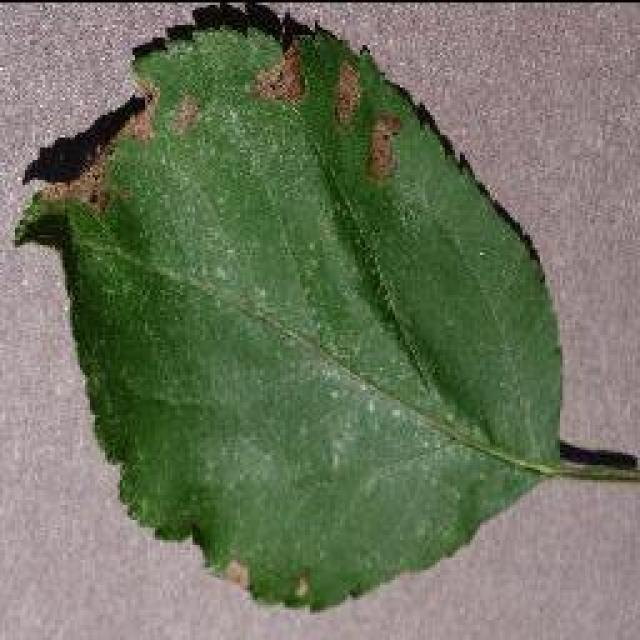Black_rot: (10, 0, 637, 612)
